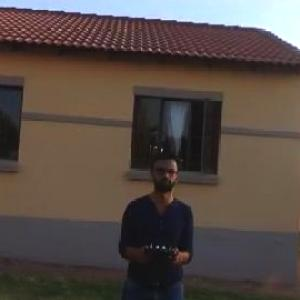follow: (112, 145, 197, 299)
